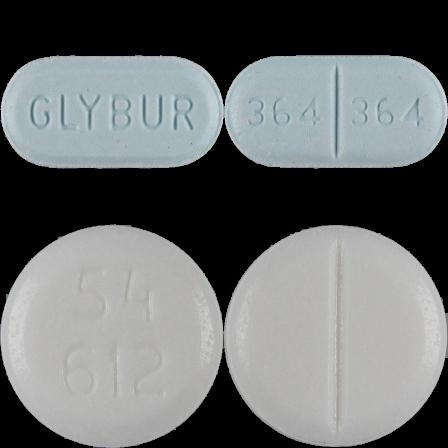43353-656: (0, 0, 224, 224)
